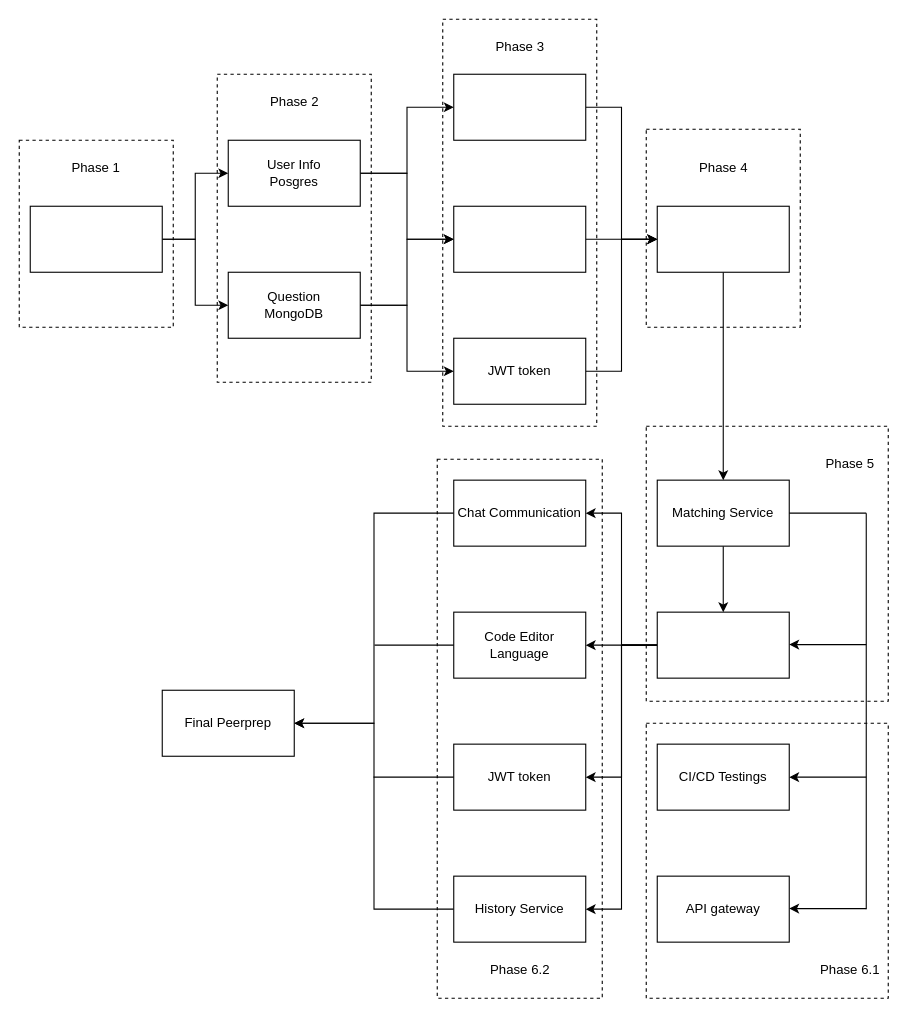
The diagram is 913 pixels wide and 1018 high, and some of its shapes have lost their labels. Each missing label, with the centre of its shape:
"Additional Roles" goes at [519,238].
"Collaboration Service" goes at [722,644].
"Docker into microservices" goes at [722,238].
"OTP authentication" goes at [519,106].
"Web App UI Base" goes at [95,238].
